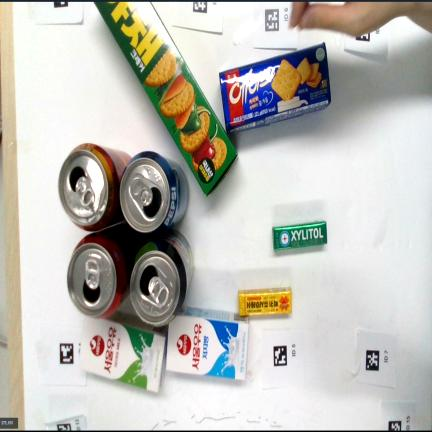can_coke_decaf: (58, 144, 130, 231)
can_coke_zero: (67, 222, 150, 318)
can_pepsi: (120, 151, 188, 235)
can_pepsi_zero: (130, 230, 193, 326)
cracker_ace: (219, 43, 331, 132)
cracker_vege: (94, 1, 237, 195)
gum_green: (273, 221, 327, 250)
gum_yellow: (239, 287, 291, 316)
milk_blue: (166, 307, 248, 379)
milk_green: (78, 312, 167, 393)
